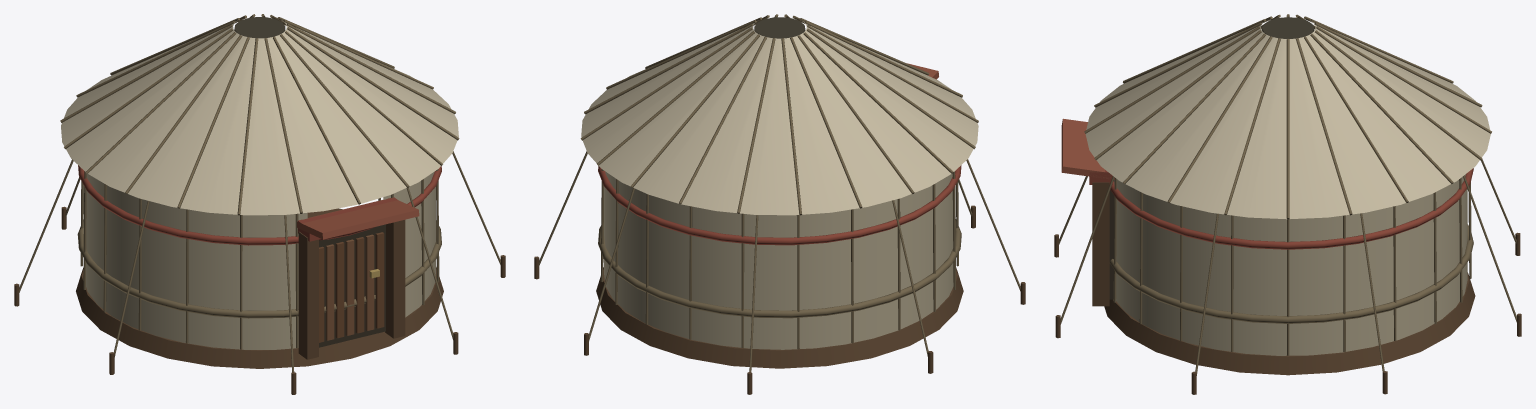
The model's file is yurt.glb.
3 views of the same model, side by side, from view 1: azimuth 30°, elevation 25°; view 2: azimuth 150°, elevation 25°; view 3: azimuth 270°, elevation 25° (orthographic).
Parts seen in each view (by area): view 1: yurt; view 2: yurt; view 3: yurt.
Boxes of the visible parts, x1,y1,x2,y2 form: yurt: (14,14,505,394); yurt: (534,14,1025,394); yurt: (1054,14,1521,394).
Bounding box in the file's own units: 1 × 0.6364 × 0.9995.
